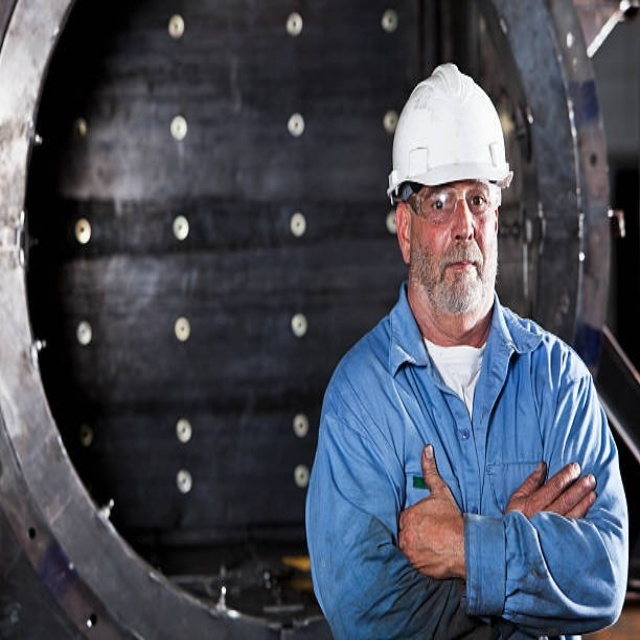Gafas: (400, 184, 501, 224)
Sin_guantes: (397, 442, 470, 581), (507, 459, 591, 521)
Sin_mascara: (437, 243, 485, 298)
